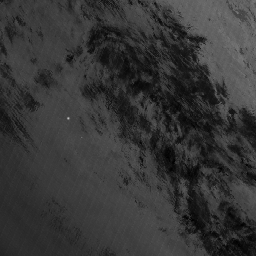Target: (64, 114, 71, 122)
